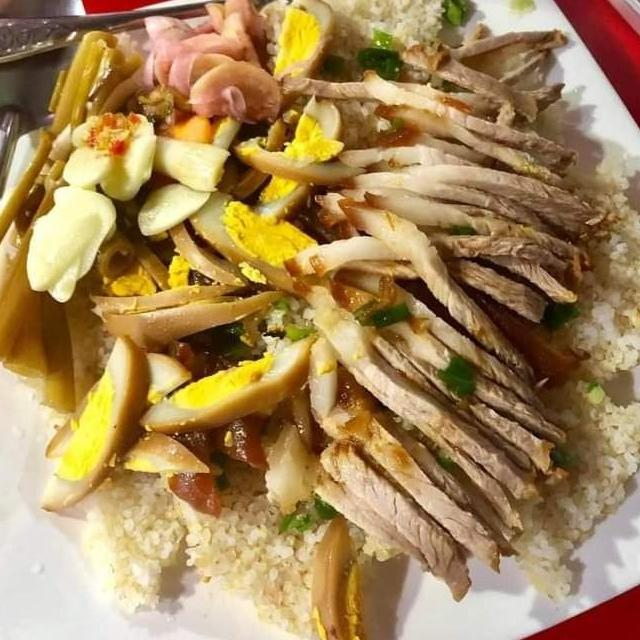com: (75, 456, 326, 640), (488, 363, 640, 608), (530, 159, 640, 387), (253, 0, 467, 80)
com suon trung: (5, 0, 640, 640)
dua chua: (0, 20, 233, 409)
suon: (280, 18, 618, 608)
trung: (30, 258, 318, 518), (162, 194, 346, 306), (242, 90, 348, 233), (305, 509, 397, 640), (251, 0, 337, 126)
